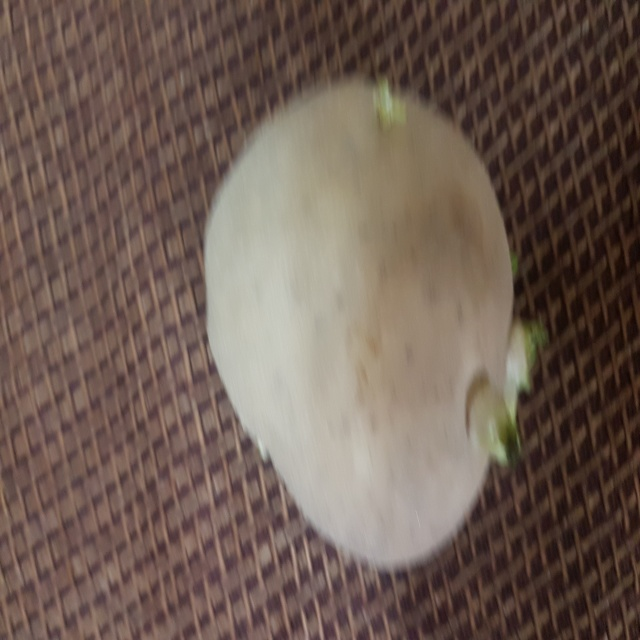potato: (194, 75, 548, 577)
